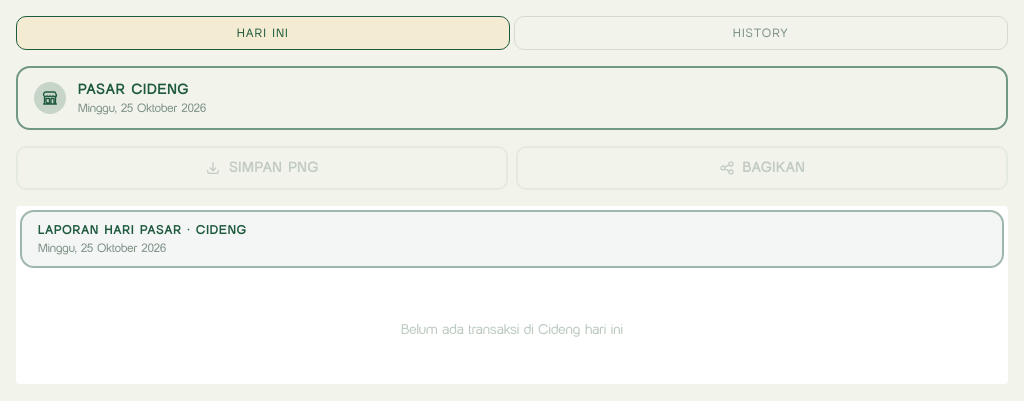
Test: LaporanPasar › shows loading state while history is being fetched
Click the button "History" at (761, 33), box [514, 16, 1008, 50]
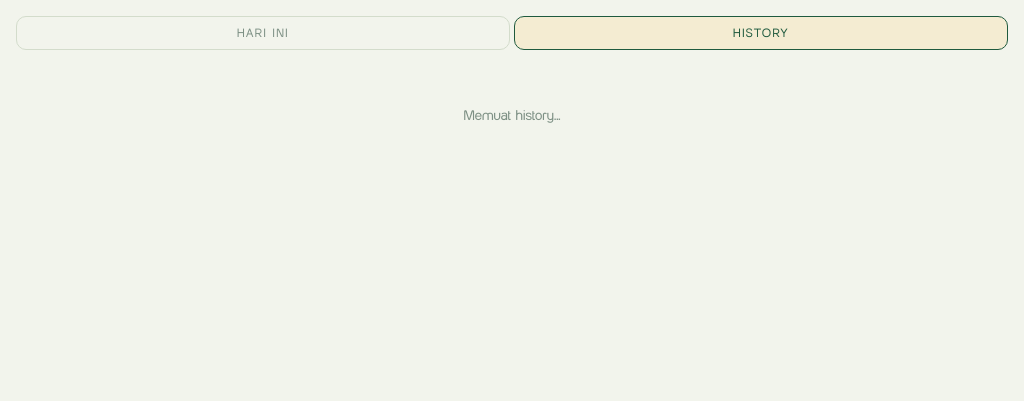
Now the text "Memuat history..." is shown, box [463, 107, 561, 124]
